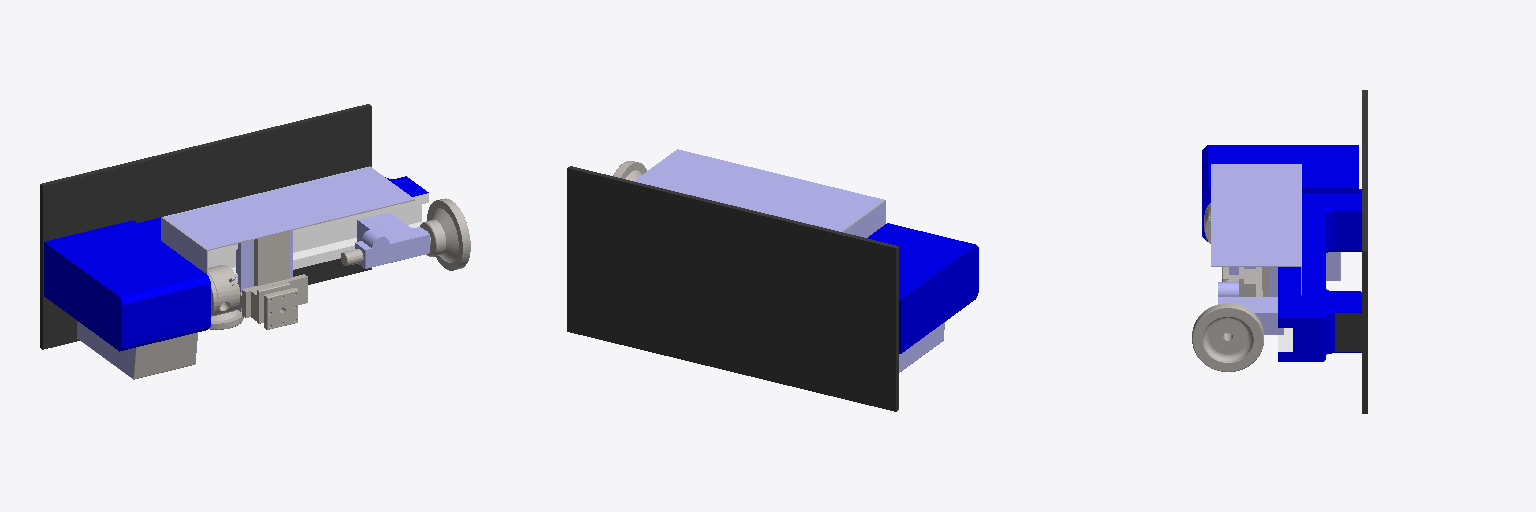
Rendered from tour_simple.obj.
The picture shows the model from 3 angles: view 1: azimuth 30°, elevation 25°; view 2: azimuth 150°, elevation 25°; view 3: azimuth 270°, elevation 25°; orthographic projection.
Parts seen in each view (by area): view 1: Solide67, Solide58, Solide61, Solide54, Solide66, Solide59, Solide63, Solide62, Solide56, Solide65, Solide70, Solide69; view 2: Solide67, Solide61, Solide58, Solide54; view 3: Solide67, Solide61, Solide58, Solide66, Solide70, Solide54.
Boxes of the visible parts, box(x1,y1,x2,y2) form: Solide67: box(40, 104, 428, 349); Solide58: box(44, 220, 210, 351); Solide61: box(161, 166, 414, 274); Solide54: box(77, 321, 197, 379); Solide66: box(420, 198, 470, 270); Solide59: box(355, 227, 429, 268); Solide63: box(254, 231, 289, 285); Solide62: box(257, 282, 297, 329); Solide56: box(208, 265, 239, 315); Solide65: box(236, 230, 292, 311); Solide70: box(357, 212, 411, 241); Solide69: box(240, 274, 307, 317); Solide67: box(567, 166, 898, 411); Solide61: box(634, 149, 885, 237); Solide58: box(868, 223, 978, 353); Solide54: box(899, 322, 944, 372); Solide67: box(1278, 90, 1367, 413); Solide61: box(1211, 164, 1301, 294); Solide58: box(1202, 145, 1358, 241); Solide66: box(1192, 303, 1263, 371); Solide70: box(1239, 297, 1283, 334); Solide54: box(1229, 252, 1340, 280).
Size of the model in its own units: 2974 by 1350 by 1315.